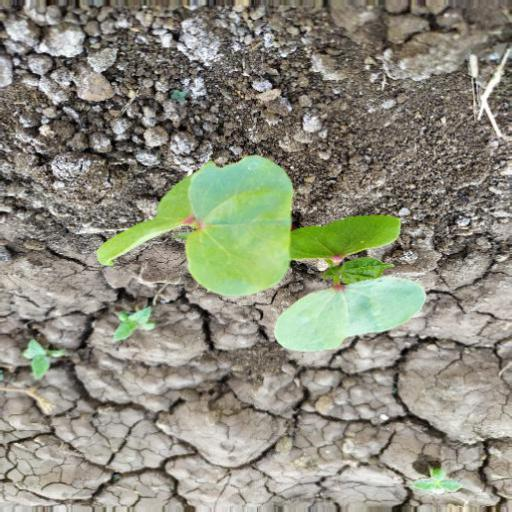weed: (90, 151, 427, 355)
